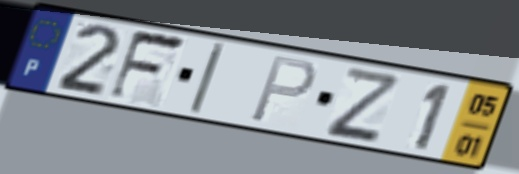1: (411, 82, 454, 152)
2: (50, 23, 124, 99)
F: (104, 27, 191, 104)
I: (184, 40, 229, 118)
P: (246, 53, 321, 125)
Z: (322, 64, 401, 143)
